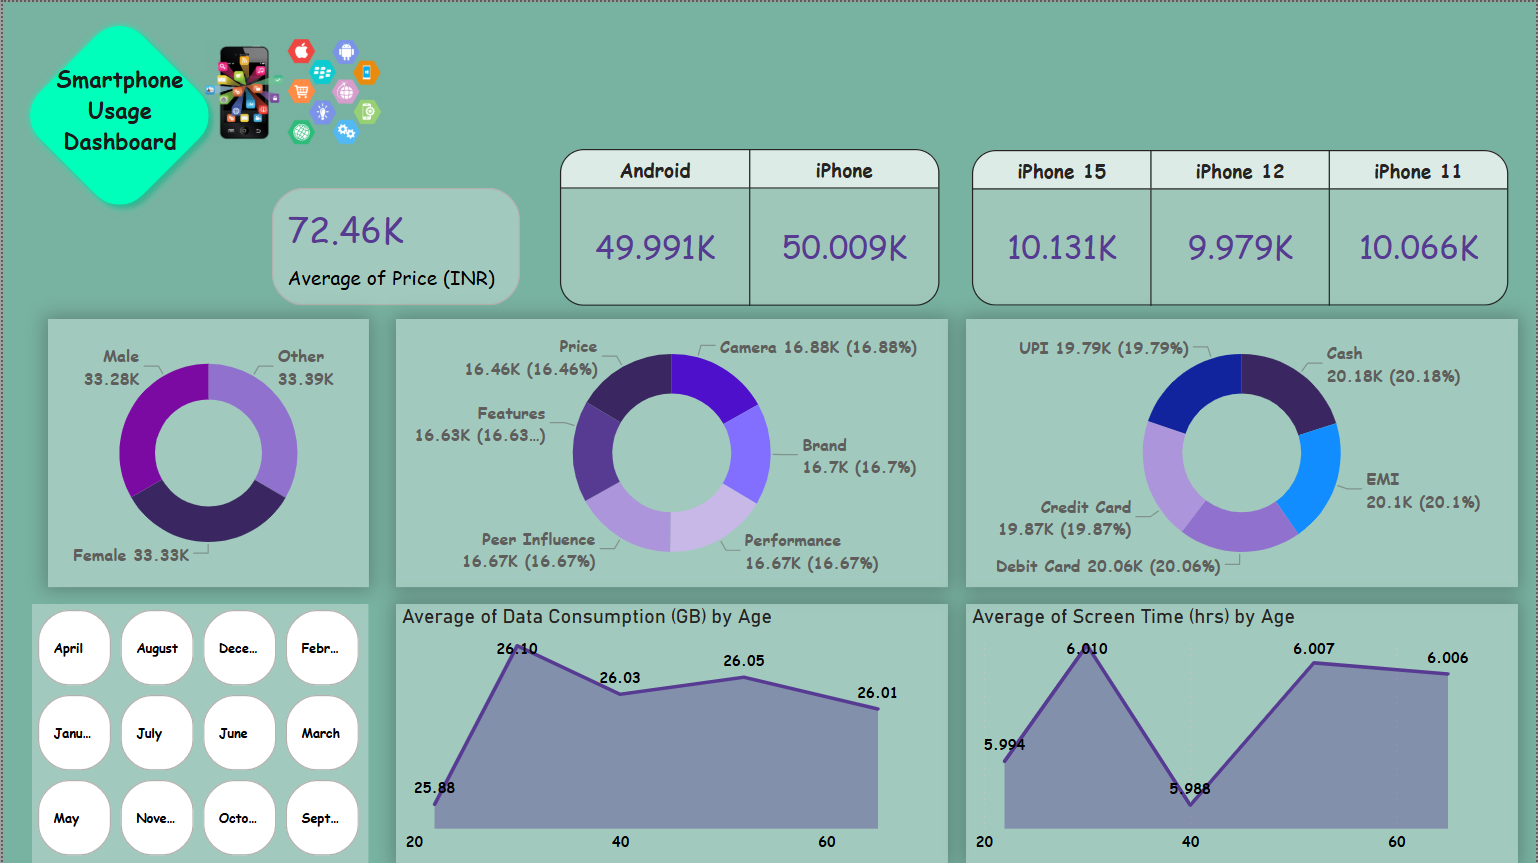

The dashboard page shown, as its layout file describes it:
{"tool":"powerbi","page":{"name":"Smartphone Dashboard","canvas":[1280,720],"ordinal":0},"visuals":[{"type":"shape","box":[0,0,194.5,189.5],"z":0},{"type":"image","box":[162.3,26.2,160.3,97.8],"z":1000},{"type":"textbox","box":[24.2,45.4,147.1,97.8],"z":2000},{"type":"areaChart","fields":{"Category":["final_phone_preferences_india.Age"],"Y":["Avg(final_phone_preferences_india.Data Consumption (GB))"]},"box":[328.6,502.9,460.6,216.7],"z":3000},{"type":"cardVisual","fields":{"Data":["CountNonNull(final_phone_preferences_india.Model)"],"Rows":["final_phone_preferences_india.Model"]},"box":[789.2,124,490.8,130],"z":4000},{"type":"cardVisual","fields":{"Rows":["final_phone_preferences_india.Brand"],"Data":["CountNonNull(final_phone_preferences_india.Brand)"]},"box":[445.5,123,358.8,131],"z":5000},{"type":"areaChart","fields":{"Category":["final_phone_preferences_india.Age"],"Y":["Avg(final_phone_preferences_india.Screen Time (hrs))"]},"box":[804.3,502.9,460.6,216.7],"z":6000},{"type":"cardVisual","fields":{"Data":["Avg(final_phone_preferences_india.Price (INR))"]},"box":[224.8,155.2,207.6,98.8],"z":7000},{"type":"donutChart","fields":{"Category":["final_phone_preferences_india.Purchase Reason"],"Y":["CountNonNull(final_phone_preferences_india.Purchase Reason)"]},"box":[328.6,265.1,460.6,223.7],"z":8000},{"type":"donutChart","fields":{"Category":["final_phone_preferences_india.Payment Mode"],"Y":["CountNonNull(final_phone_preferences_india.Payment Mode)"]},"box":[804.3,265.1,460.6,223.7],"z":9000},{"type":"donutChart","fields":{"Category":["final_phone_preferences_india.Gender"],"Y":["CountNonNull(final_phone_preferences_india.Gender)"]},"box":[37.3,265.1,268.1,223.7],"z":10000},{"type":"advancedSlicerVisual","fields":{"Values":["final_phone_preferences_india.Purchase Month"]},"box":[24.2,502.9,281.2,216.7],"z":11000}]}

Visuals, with their boxes in screenshot pixels (x1, y1, x2, y2), scaled from the page's 1280x720 canvas onto the 1538x863 screenshot:
shape: (0,0,234,227)
image: (195,31,388,149)
textbox: (29,54,206,172)
areaChart - final_phone_preferences_india.Age x Avg(final_phone_preferences_india.Data Consumption (GB)): (395,603,948,862)
cardVisual - CountNonNull(final_phone_preferences_india.Model) x final_phone_preferences_india.Model: (948,149,1537,304)
cardVisual - final_phone_preferences_india.Brand x CountNonNull(final_phone_preferences_india.Brand): (535,147,966,304)
areaChart - final_phone_preferences_india.Age x Avg(final_phone_preferences_india.Screen Time (hrs)): (966,603,1520,862)
cardVisual - Avg(final_phone_preferences_india.Price (INR)): (270,186,520,304)
donutChart - final_phone_preferences_india.Purchase Reason x CountNonNull(final_phone_preferences_india.Purchase Reason): (395,318,948,586)
donutChart - final_phone_preferences_india.Payment Mode x CountNonNull(final_phone_preferences_india.Payment Mode): (966,318,1520,586)
donutChart - final_phone_preferences_india.Gender x CountNonNull(final_phone_preferences_india.Gender): (45,318,367,586)
advancedSlicerVisual - final_phone_preferences_india.Purchase Month: (29,603,367,862)
